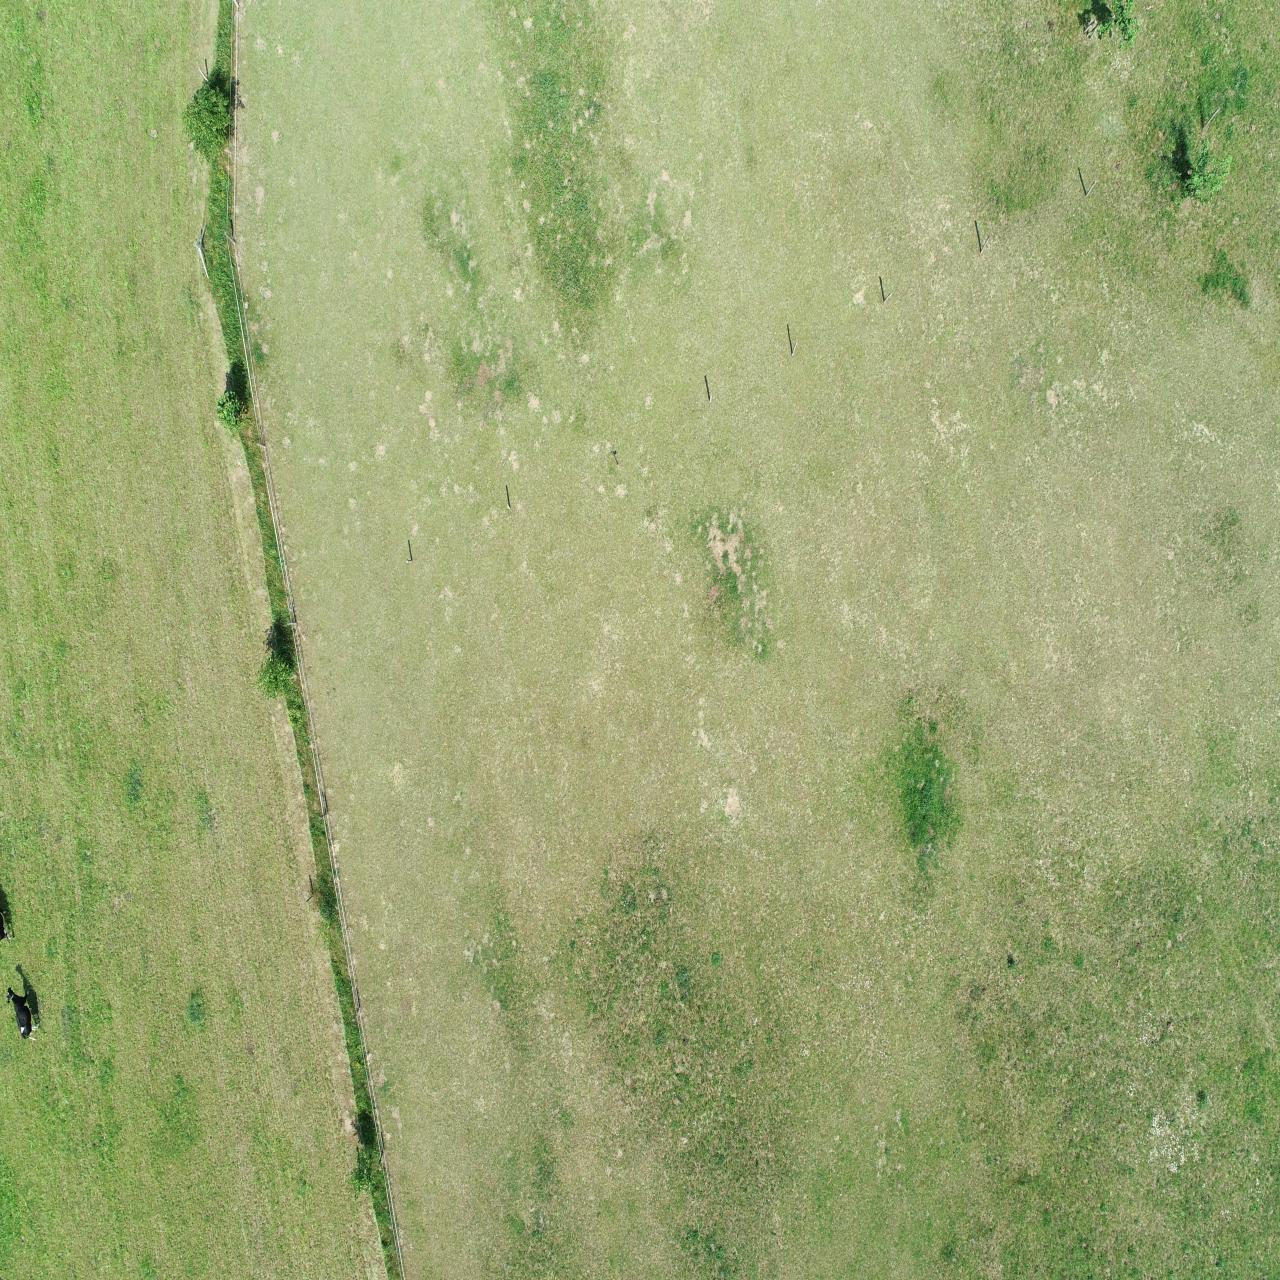cow: (4, 983, 41, 1046)
